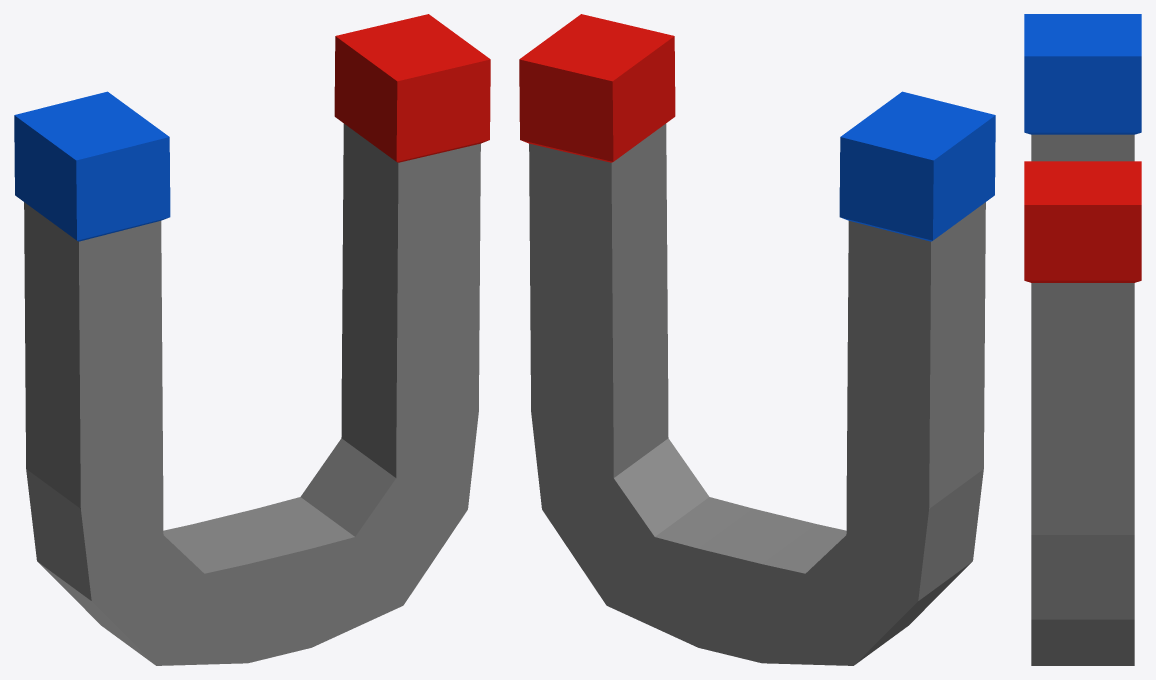
The model's file is magnet.fbx.
3 renders of one model, left to right at view 1: azimuth 30°, elevation 25°; view 2: azimuth 150°, elevation 25°; view 3: azimuth 270°, elevation 25°, orthographic. The views are drawn at different scales.
Visible parts, largest first — view 1: Куб; view 2: Куб; view 3: Куб.
Part boxes in pixels (x1=…): Куб: x1=14, y1=14, x2=490, y2=665; Куб: x1=519, y1=14, x2=995, y2=665; Куб: x1=1024, y1=14, x2=1141, y2=665.
Size of the model in its own units: 874 by 1107 by 227.
